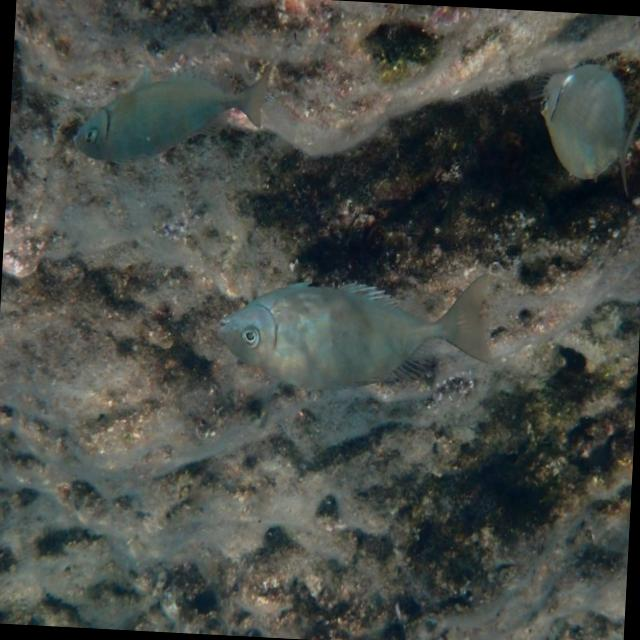Sokar Baligi: (205, 246, 502, 416), (65, 32, 284, 188)
